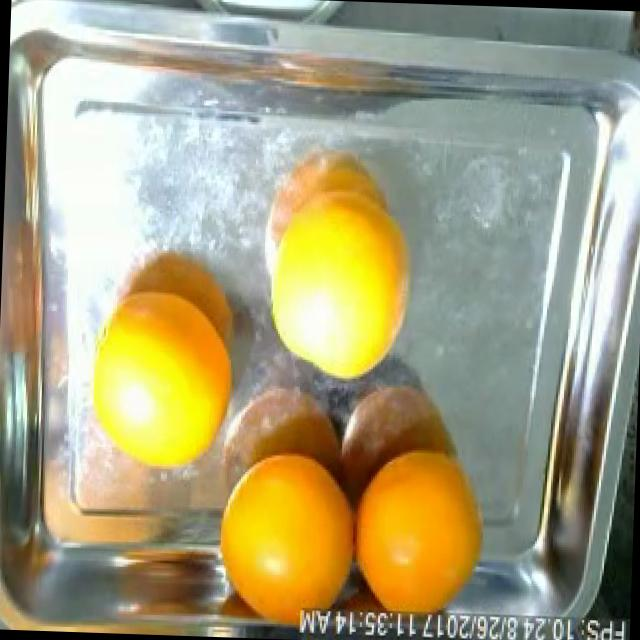Fruit: (195, 430, 376, 640), (338, 417, 507, 634), (253, 198, 424, 398), (0, 189, 48, 374)
